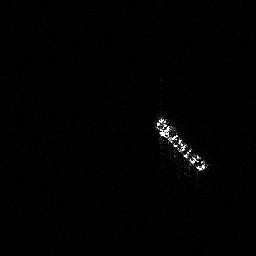ship: (152, 110, 211, 182)
